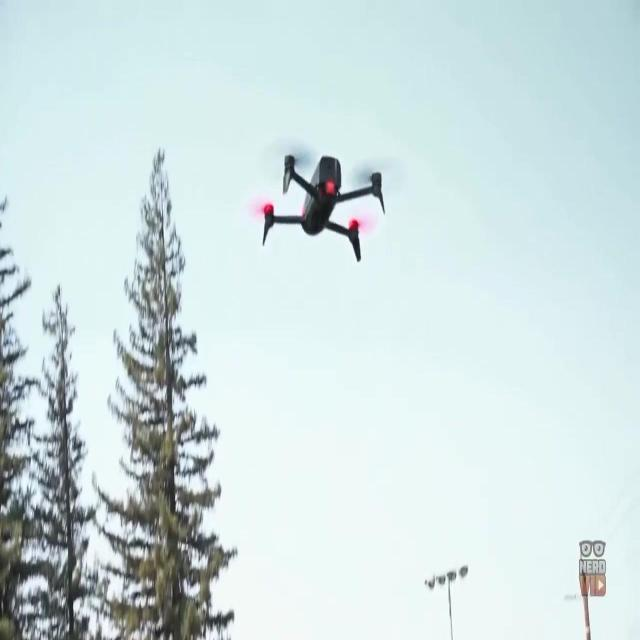drone: (250, 134, 404, 266)
